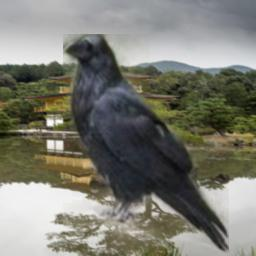Crow: (63, 34, 229, 253)
